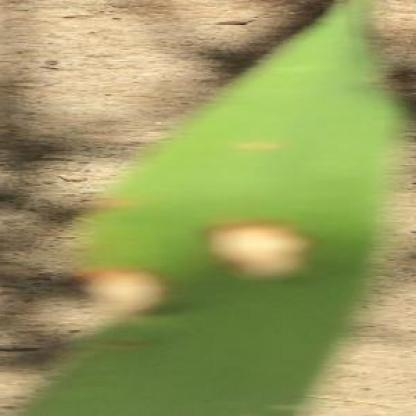Rice blast: (202, 224, 323, 287), (79, 272, 172, 311)
